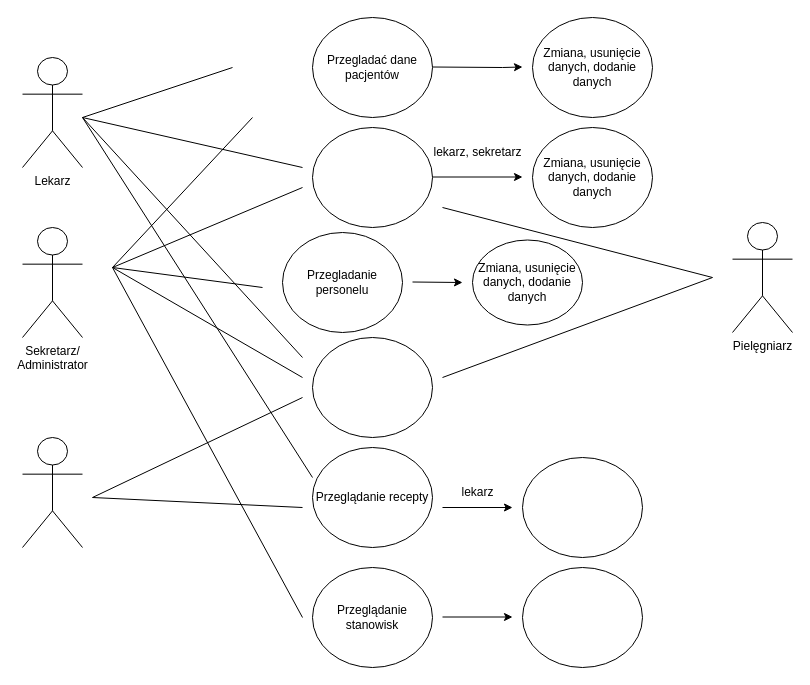
The diagram is 810 pixels wide and 685 high, and some of its shapes have lost their labels. Each missing label, with the box of its shape:
Pacjent: (22, 436, 82, 548)
Przegladanie leków: (312, 126, 432, 228)
Przegladanie wizyty: (312, 336, 432, 438)
Wystawianie recepty: (522, 456, 642, 558)
Zmiana stanowisk: (522, 566, 642, 668)
